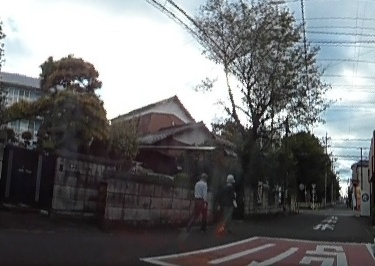person: (185, 171, 211, 236), (213, 173, 234, 234)
